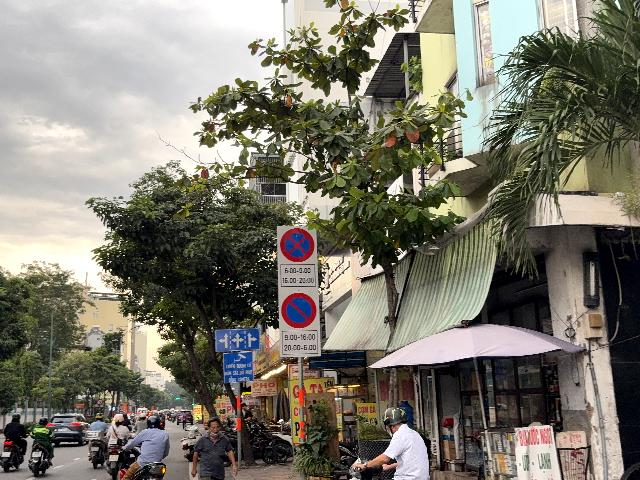cam-do-xe: (281, 292, 316, 328)
cam-dung-va-do-xe: (280, 228, 315, 262)
